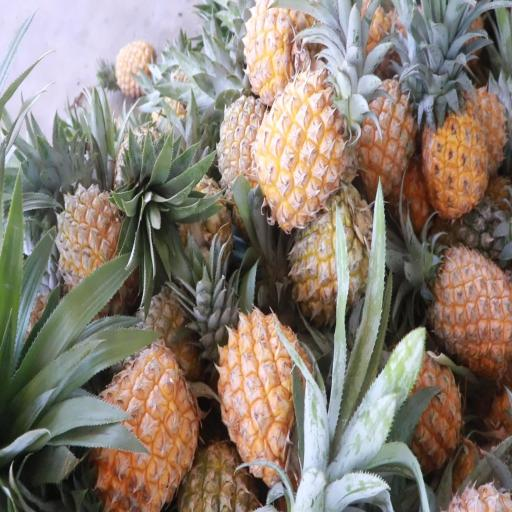------------------------------: (292, 195, 374, 325)
Pineapple - v8 v1: (85, 349, 201, 512), (220, 309, 306, 466), (262, 76, 349, 226), (422, 246, 512, 362), (381, 349, 462, 474), (355, 72, 421, 194), (423, 96, 488, 212), (247, 0, 317, 105)
